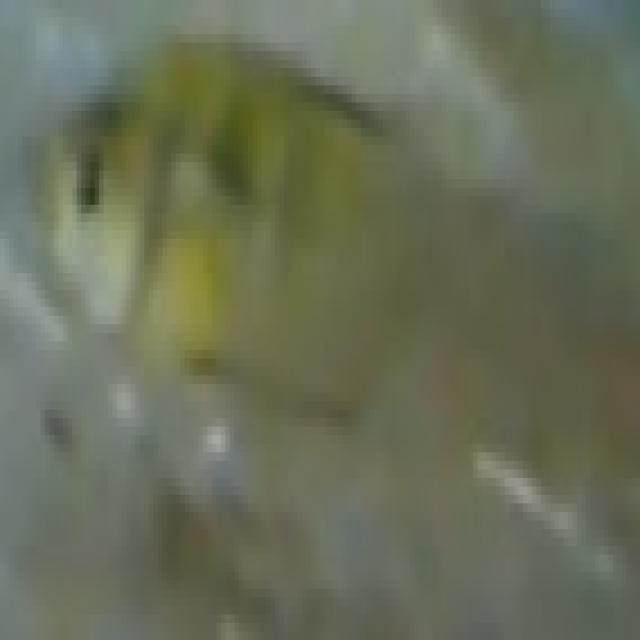Glass-Perchlet: (21, 0, 590, 442)
